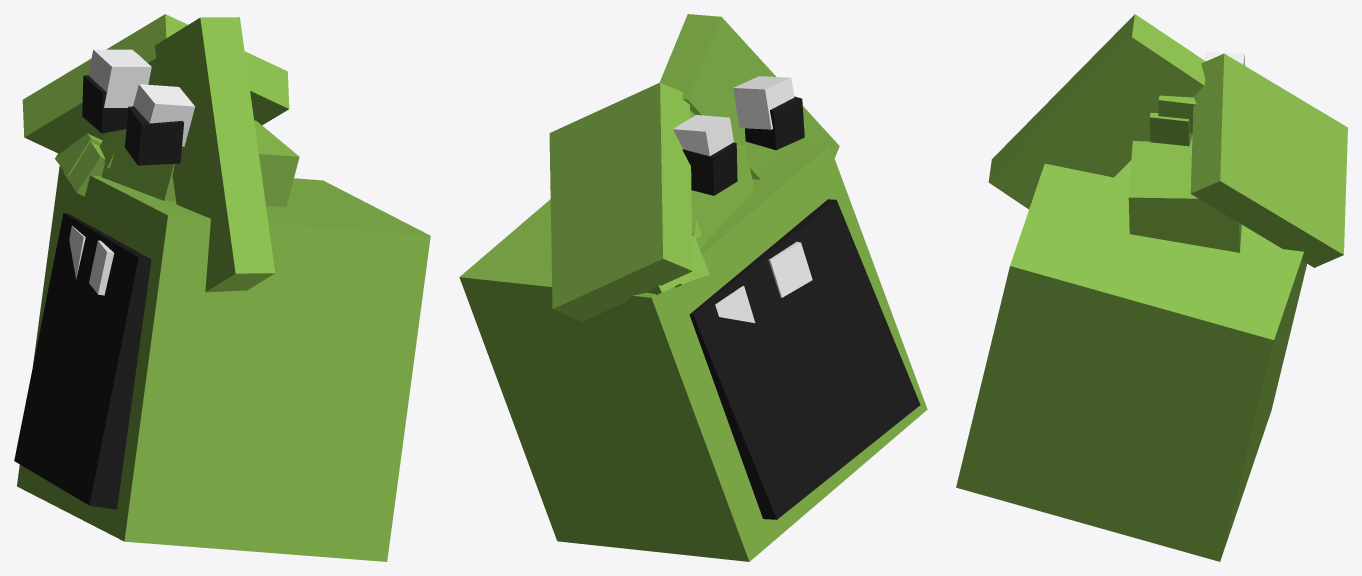
The model's file is Head_Rowan.fbx.
The picture shows the model from 3 angles, left to right: view 1: azimuth 30°, elevation 25°; view 2: azimuth 150°, elevation 25°; view 3: azimuth 270°, elevation 25°; orthographic projection. The views are drawn at different scales.
Visible parts, largest first — view 1: mesh_1413243794, mesh_599013445, mesh_1279310833, mesh_623594919, mesh_195573689, mesh_441987125, mesh_621210957, mesh_290827464, mesh_129822694, mesh_2070043691, mesh_232224493, mesh_1699301353; view 2: mesh_1413243794, mesh_599013445, mesh_623594919, mesh_1279310833, mesh_195573689, mesh_290827464, mesh_129822694, mesh_621210957, mesh_441987125, mesh_232224493, mesh_1978828851; view 3: mesh_1413243794, mesh_623594919, mesh_1279310833, mesh_195573689, mesh_1774105978, mesh_2045930328.
Part boxes in pixels (x1,y1,x2,y2): mesh_1413243794: [17, 165, 430, 561]; mesh_599013445: [14, 213, 151, 509]; mesh_1279310833: [154, 17, 275, 292]; mesh_623594919: [22, 14, 289, 153]; mesh_195573689: [101, 120, 299, 206]; mesh_441987125: [88, 49, 151, 107]; mesh_621210957: [125, 106, 183, 165]; mesh_290827464: [133, 84, 195, 146]; mesh_129822694: [82, 75, 128, 133]; mesh_2070043691: [63, 141, 105, 196]; mesh_232224493: [89, 240, 114, 295]; mesh_1699301353: [55, 133, 102, 175]; mesh_1413243794: [459, 142, 927, 561]; mesh_599013445: [689, 199, 920, 519]; mesh_623594919: [549, 82, 692, 321]; mesh_1279310833: [659, 14, 839, 179]; mesh_195573689: [691, 145, 754, 248]; mesh_290827464: [733, 76, 794, 129]; mesh_129822694: [682, 142, 737, 195]; mesh_621210957: [745, 96, 804, 150]; mesh_441987125: [673, 115, 733, 156]; mesh_232224493: [768, 241, 812, 297]; mesh_1978828851: [715, 286, 755, 322]; mesh_1413243794: [956, 160, 1306, 561]; mesh_623594919: [1190, 53, 1347, 267]; mesh_1279310833: [988, 14, 1205, 209]; mesh_195573689: [1128, 135, 1241, 252]; mesh_1774105978: [1149, 112, 1192, 146]; mesh_2045930328: [1158, 95, 1196, 133].
Bounding box in the file's own units: 28.14 × 41.16 × 29.67.
